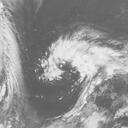cyclone: (39, 37, 97, 83)
